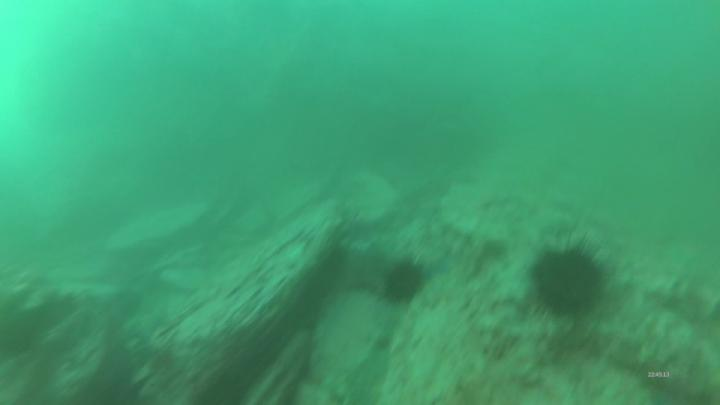echinus: (529, 232, 611, 327), (381, 257, 426, 305)
